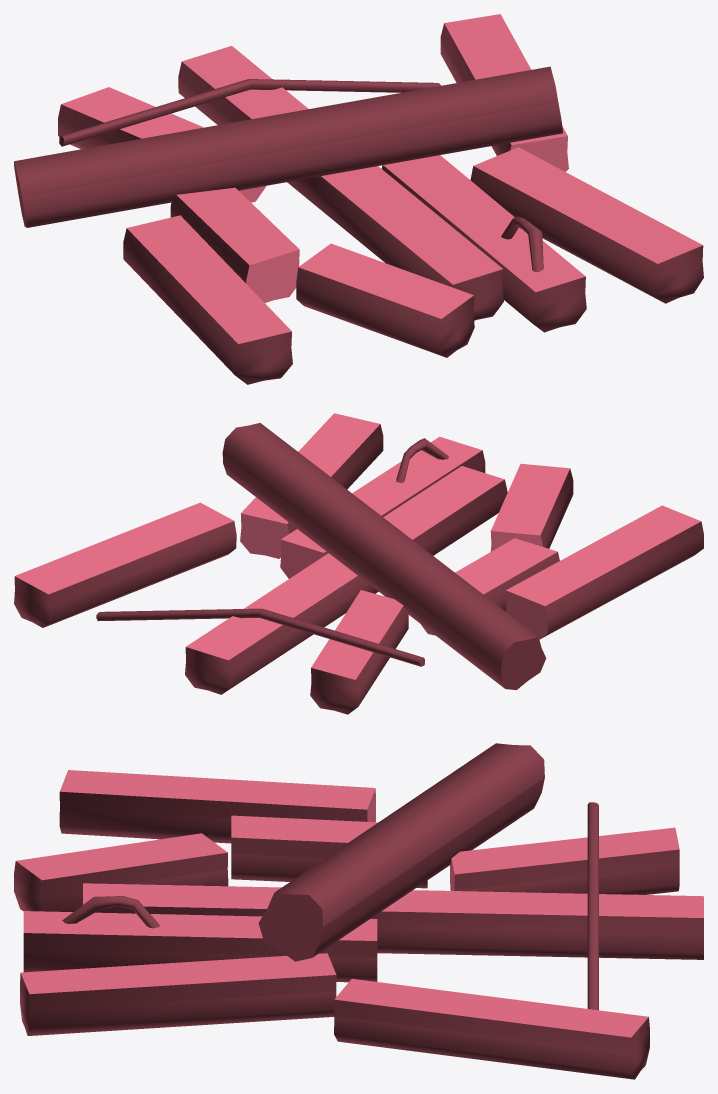
The model's file is barcomadquebr.fbx.
3 views of the same model, one above another, from view 1: azimuth 30°, elevation 25°; view 2: azimuth 150°, elevation 25°; view 3: azimuth 270°, elevation 25° (orthographic). The views are drawn at different scales.
Visible parts, largest first — view 1: barcomadquebr; view 2: barcomadquebr; view 3: barcomadquebr.
Part boxes in pixels (<box>): barcomadquebr: <box>14,14,703,384</box>; barcomadquebr: <box>14,413,703,714</box>; barcomadquebr: <box>14,743,703,1079</box>.
Bounding box in the file's own units: 153 × 35.14 × 160.
